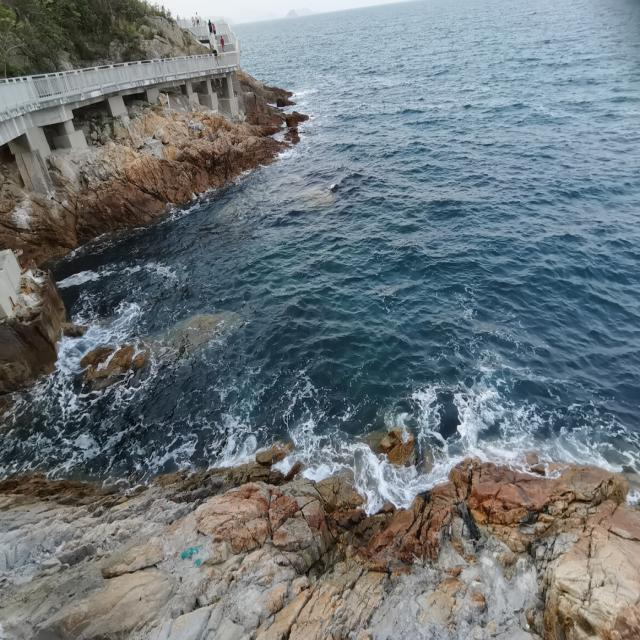reef: (36, 62, 290, 268)
